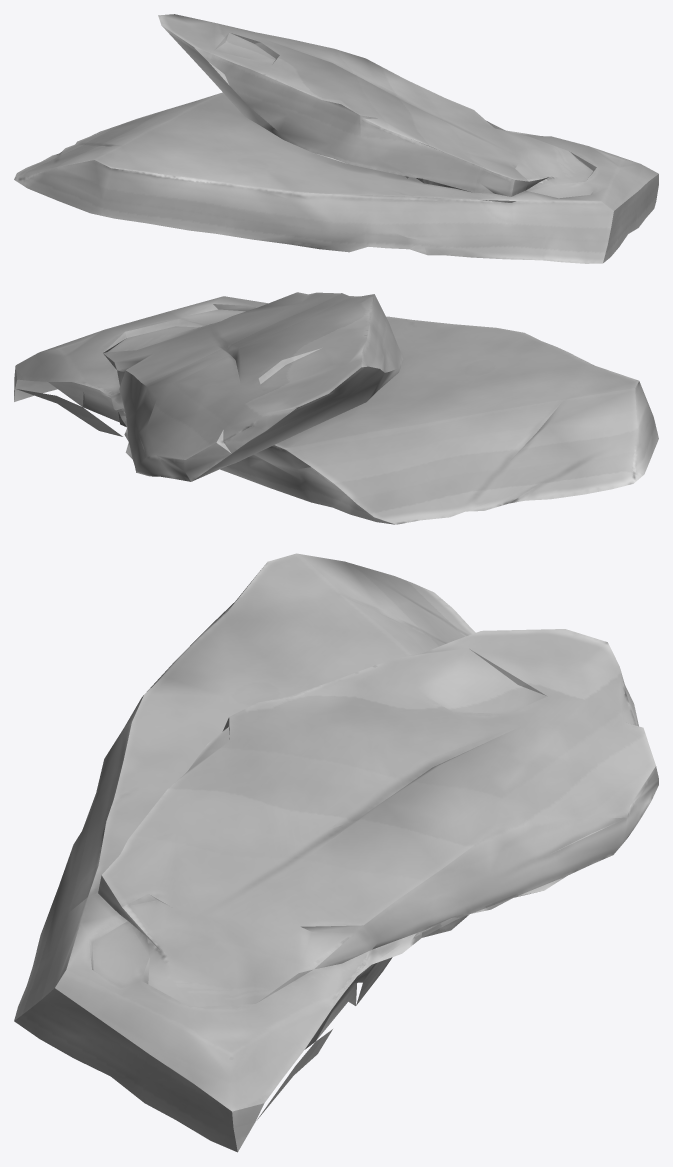
File: sculpted_slab_02.glb
3 renders of one model, top to bottom at view 1: azimuth 30°, elevation 25°; view 2: azimuth 150°, elevation 25°; view 3: azimuth 270°, elevation 25°, orthographic. The views are drawn at different scales.
Visible parts, largest first — view 1: sculpted_slab_02; view 2: sculpted_slab_02; view 3: sculpted_slab_02.
Part boxes in pixels (<box>): sculpted_slab_02: <box>14,14,658,263</box>; sculpted_slab_02: <box>14,292,658,524</box>; sculpted_slab_02: <box>14,553,658,1152</box>.
Size of the model in its own units: 4.12 by 1.25 by 2.79.
Materials: 1 (1 with a texture image).
